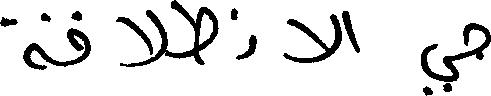X: (361, 39, 457, 95), (283, 9, 340, 67), (0, 8, 47, 74), (120, 5, 166, 71), (174, 0, 215, 69), (67, 6, 89, 70), (464, 18, 490, 64), (236, 5, 254, 64)
